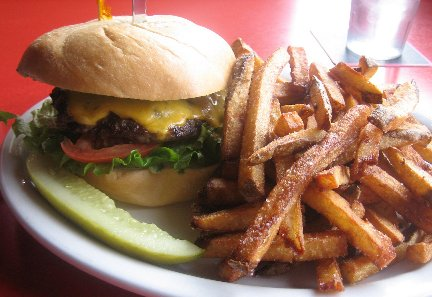hamburger: (18, 14, 245, 208)
